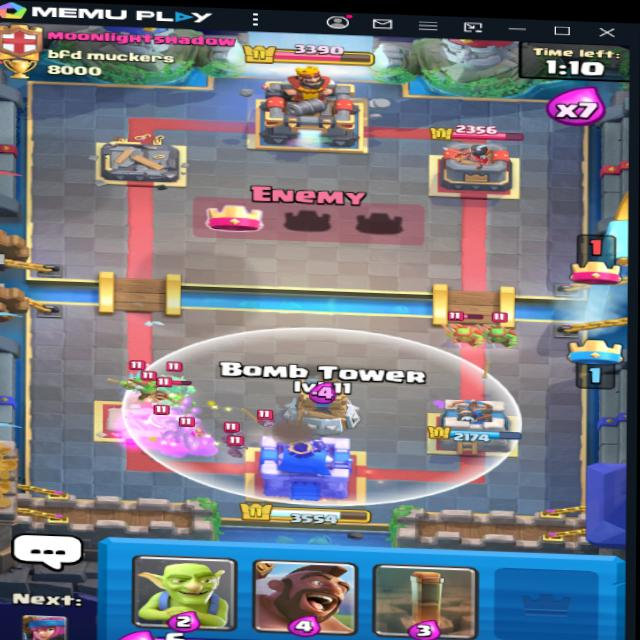bats: (207, 435, 253, 459), (247, 405, 287, 429)
spear-goblin: (114, 369, 159, 403), (448, 312, 488, 350), (480, 318, 519, 354)
